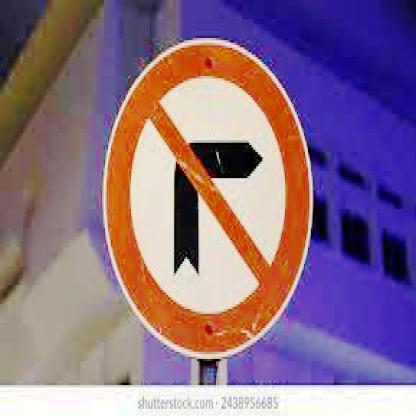No right turn: (98, 37, 320, 362)
